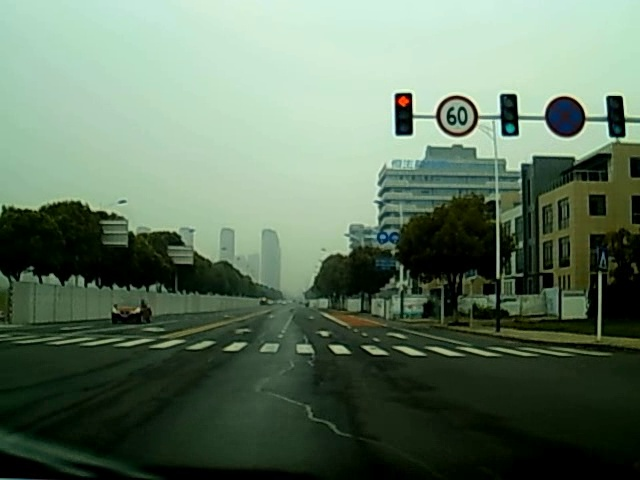Traffic_Light_go: (498, 94, 518, 138), (606, 96, 626, 140)
Traffic_Light_stop: (395, 93, 413, 137)
